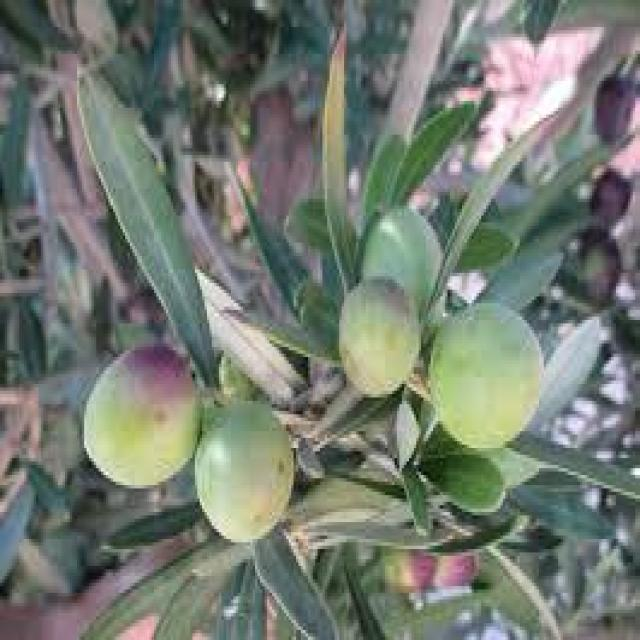Healthy: (84, 344, 197, 485), (431, 307, 541, 445), (195, 397, 294, 544), (339, 276, 419, 394)
